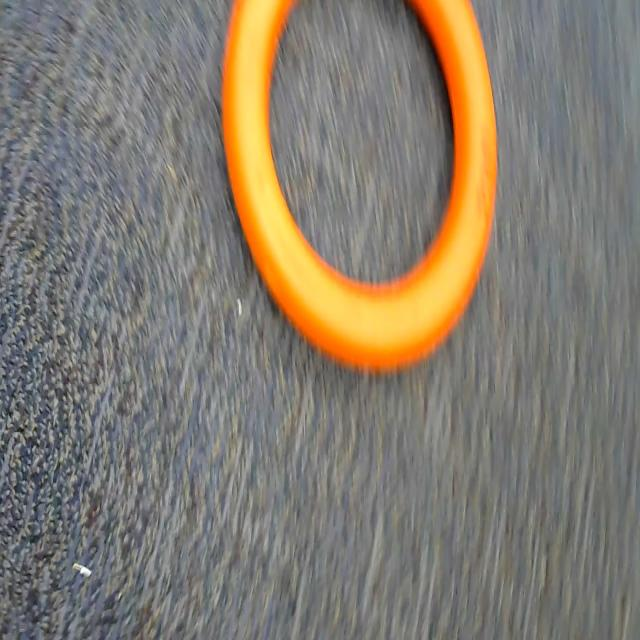note: (213, 0, 519, 414)
